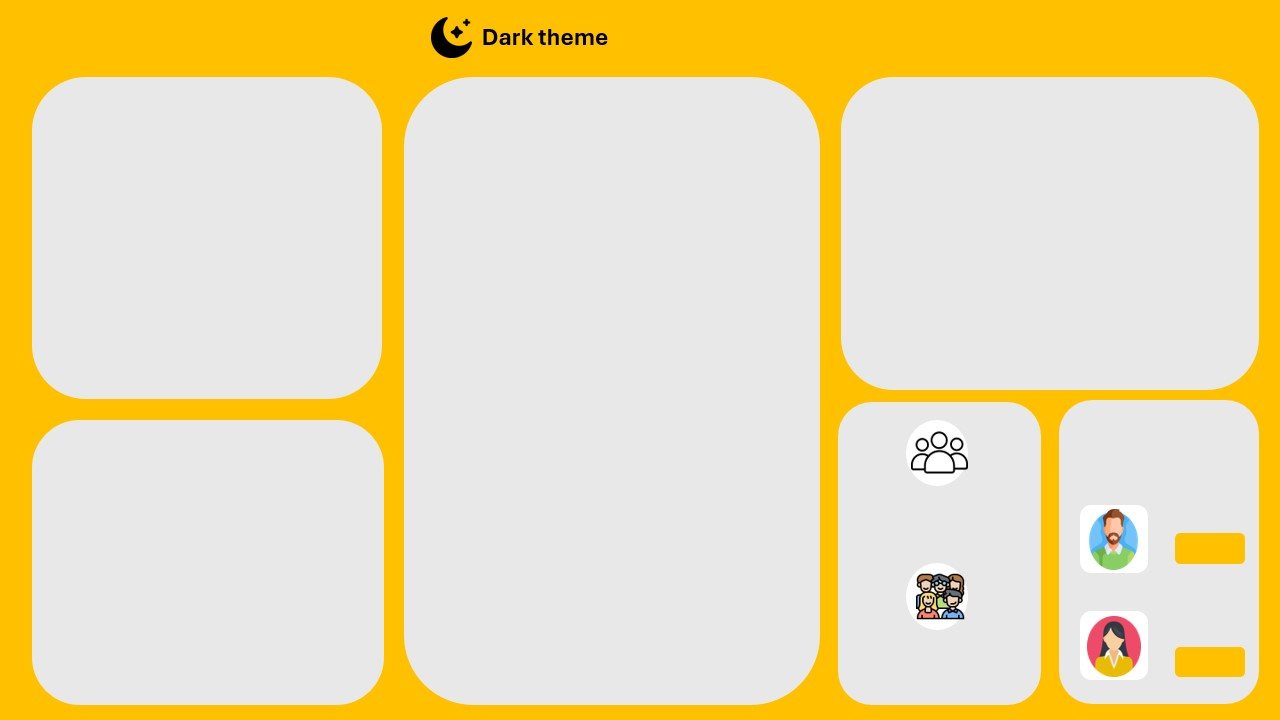

What the dashboard file says about the page in this screenshot:
{"tool":"powerbi","page":{"name":"Dark theme","canvas":[1280,720],"ordinal":1},"visuals":[{"type":"lineStackedColumnComboChart","fields":{"Category":["DimCustomer.Age Category"],"Y":["Measures .Total Revenue"],"Y2":["Customer Measures.Avg Revenue(Age Category)"]},"box":[845.2,156,426.2,232.1],"z":0},{"type":"card","fields":{"Values":["Customer Measures.Measure"]},"box":[826.9,113.7,437.1,54.1],"z":1000},{"type":"textbox","box":[896.4,84.5,335.7,40.5],"z":2000},{"type":"pieChart","fields":{"Y":["Customer Measures.% CustomersWithChildren revenue","Customer Measures.% CustomersWithoutChildren revenue"]},"box":[86.9,225,251.2,160.7],"z":3000},{"type":"donutChart","fields":{"Y":["Customer Measures.% CustomersWithChildren revenue","Customer Measures.% CustomersWithoutChildren revenue"]},"box":[75,541.7,256,160.7],"z":4000},{"type":"card","fields":{"Values":["Customer Measures.% CustomersWithChildren revenue"]},"box":[165.5,594.1,75,56],"z":5000},{"type":"card","fields":{"Values":["Customer Measures.% CustomersWithoutChildren revenue"]},"box":[178.6,278.6,73.8,56],"z":6000},{"type":"textbox","box":[32.5,97.4,320.7,37.9],"z":7000},{"type":"textbox","box":[48.8,426.2,327.4,36.9],"z":8000},{"type":"card","fields":{"Values":["Customer Measures.Caption Customers without Children"]},"box":[32.1,129.8,344,95.2],"z":9000},{"type":"card","fields":{"Values":["Customer Measures.Caption Customers with Children"]},"box":[17.9,457.1,370.2,96.4],"z":10000},{"type":"clusteredBarChart","fields":{"Y":["Measures .Total Revenue"],"Category":["FactTable.Customer type"]},"box":[415.5,484.5,395.2,207.1],"z":11000},{"type":"clusteredColumnChart","fields":{"Category":["DimCustomer.FirstName"],"Y":["Measures .dynamic customers"]},"box":[415.5,129.9,395.2,315.3],"z":12000},{"type":"slicer","title":"Choose number","fields":{"Values":["customer range.customer range"]},"box":[649.6,77.1,140.7,58.2],"z":13000},{"type":"card","fields":{"Values":["Customer Measures.% female"]},"box":[1170.2,641.7,82.1,35.7],"z":14000},{"type":"card","fields":{"Values":["Customer Measures.% male"]},"box":[1170.7,522.4,73.1,37.9],"z":15000},{"type":"card","fields":{"Values":["Customer Measures.avg customer age"]},"box":[946,649.6,83.9,47.4],"z":16000},{"type":"card","fields":{"Values":["Customer Measures.number of customers"]},"box":[933.8,503.4,86.6,56.8],"z":17000},{"type":"textbox","box":[859.4,514.3,96.1,46],"z":18000},{"type":"textbox","box":[845.8,653.7,109.6,37.9],"z":19000},{"type":"textbox","box":[1165.2,610.4,100.1,39.2],"z":20000},{"type":"textbox","box":[1170.7,491.3,73.1,40.6],"z":21000},{"type":"textbox","box":[438.5,88,188.1,43.3],"z":22000},{"type":"textbox","box":[1085.4,415.5,158.3,69],"z":23000},{"type":"slicer","fields":{"Values":["DimGeography.Country"]},"box":[1052.4,8.3,160.7,65.5],"z":24000},{"type":"textbox","box":[83.9,8.1,292.3,69],"z":25000},{"type":"image","box":[17.9,3.6,57.1,67.9],"z":26000},{"type":"shape","box":[475,13.1,141.7,58.3],"z":27000},{"type":"shape","box":[415.5,439.8,395.2,44.7],"z":27001}]}

Visuals, with their boxes in screenshot pixels (x1, y1, x2, y2), scaled from the page's 1280x720 canvas onto the 1280x720 screenshot:
lineStackedColumnComboChart - DimCustomer.Age Category x Measures .Total Revenue: locate(845, 156, 1271, 388)
card - Customer Measures.Measure: locate(827, 114, 1264, 168)
textbox: locate(896, 84, 1232, 125)
pieChart - Customer Measures.% CustomersWithChildren revenue x Customer Measures.% CustomersWithoutChildren revenue: locate(87, 225, 338, 386)
donutChart - Customer Measures.% CustomersWithChildren revenue x Customer Measures.% CustomersWithoutChildren revenue: locate(75, 542, 331, 702)
card - Customer Measures.% CustomersWithChildren revenue: locate(166, 594, 240, 650)
card - Customer Measures.% CustomersWithoutChildren revenue: locate(179, 279, 252, 335)
textbox: locate(32, 97, 353, 135)
textbox: locate(49, 426, 376, 463)
card - Customer Measures.Caption Customers without Children: locate(32, 130, 376, 225)
card - Customer Measures.Caption Customers with Children: locate(18, 457, 388, 554)
clusteredBarChart - Measures .Total Revenue x FactTable.Customer type: locate(416, 484, 811, 692)
clusteredColumnChart - DimCustomer.FirstName x Measures .dynamic customers: locate(416, 130, 811, 445)
"Choose number" slicer: locate(650, 77, 790, 135)
card - Customer Measures.% female: locate(1170, 642, 1252, 677)
card - Customer Measures.% male: locate(1171, 522, 1244, 560)
card - Customer Measures.avg customer age: locate(946, 650, 1030, 697)
card - Customer Measures.number of customers: locate(934, 503, 1020, 560)
textbox: locate(859, 514, 956, 560)
textbox: locate(846, 654, 955, 692)
textbox: locate(1165, 610, 1265, 650)
textbox: locate(1171, 491, 1244, 532)
textbox: locate(438, 88, 627, 131)
textbox: locate(1085, 416, 1244, 484)
slicer - DimGeography.Country: locate(1052, 8, 1213, 74)
textbox: locate(84, 8, 376, 77)
image: locate(18, 4, 75, 72)
shape: locate(475, 13, 617, 71)
shape: locate(416, 440, 811, 484)
